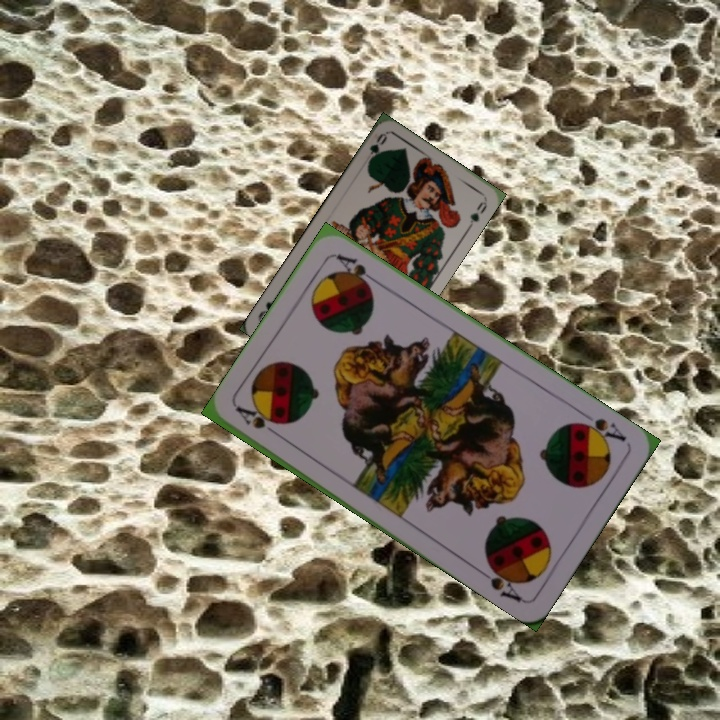GO: (364, 130, 390, 169)
SA: (232, 403, 285, 442), (571, 414, 629, 447)
